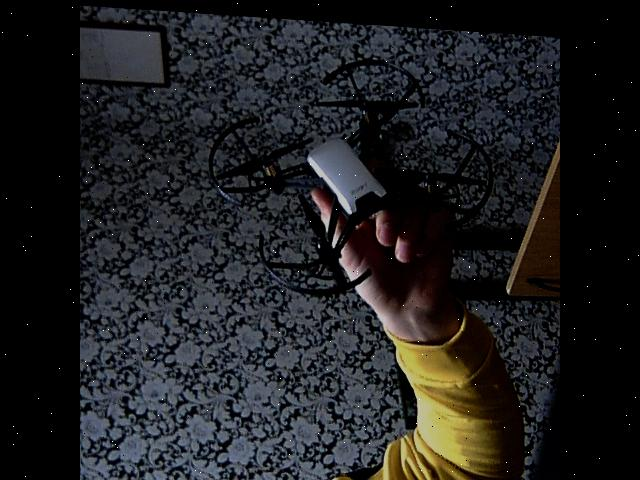drone: (195, 39, 501, 305)
